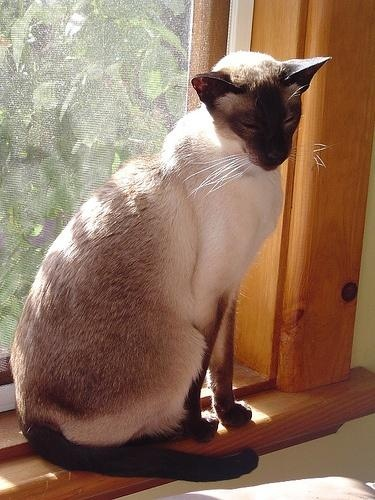cat: (11, 49, 332, 489)
